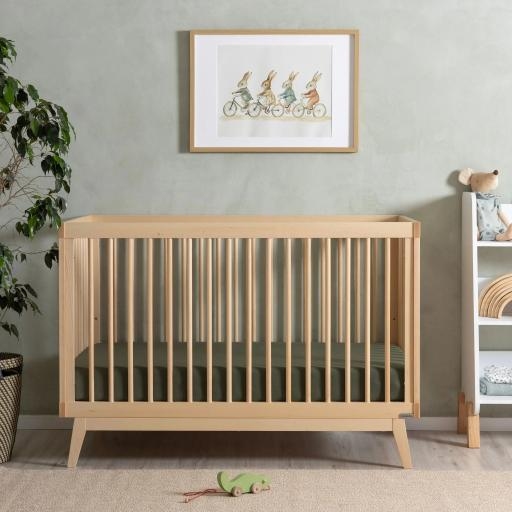crib: (59, 216, 419, 467)
